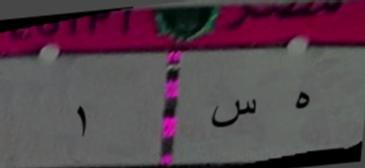1: (66, 99, 96, 141)
haa: (288, 80, 320, 124)
seen: (209, 92, 261, 133)
